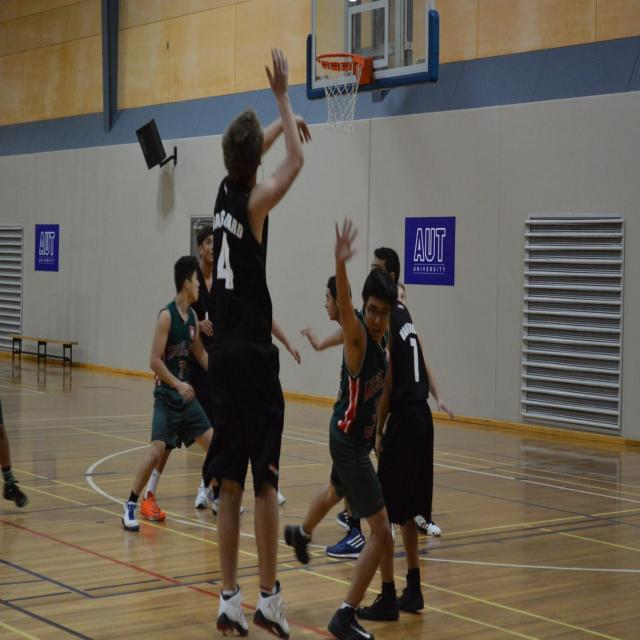body: (206, 43, 314, 638), (284, 213, 398, 640), (120, 253, 245, 533), (354, 242, 436, 620), (139, 223, 215, 522), (300, 274, 367, 559), (389, 282, 456, 541), (196, 465, 286, 517), (0, 396, 29, 510), (268, 314, 301, 365)
